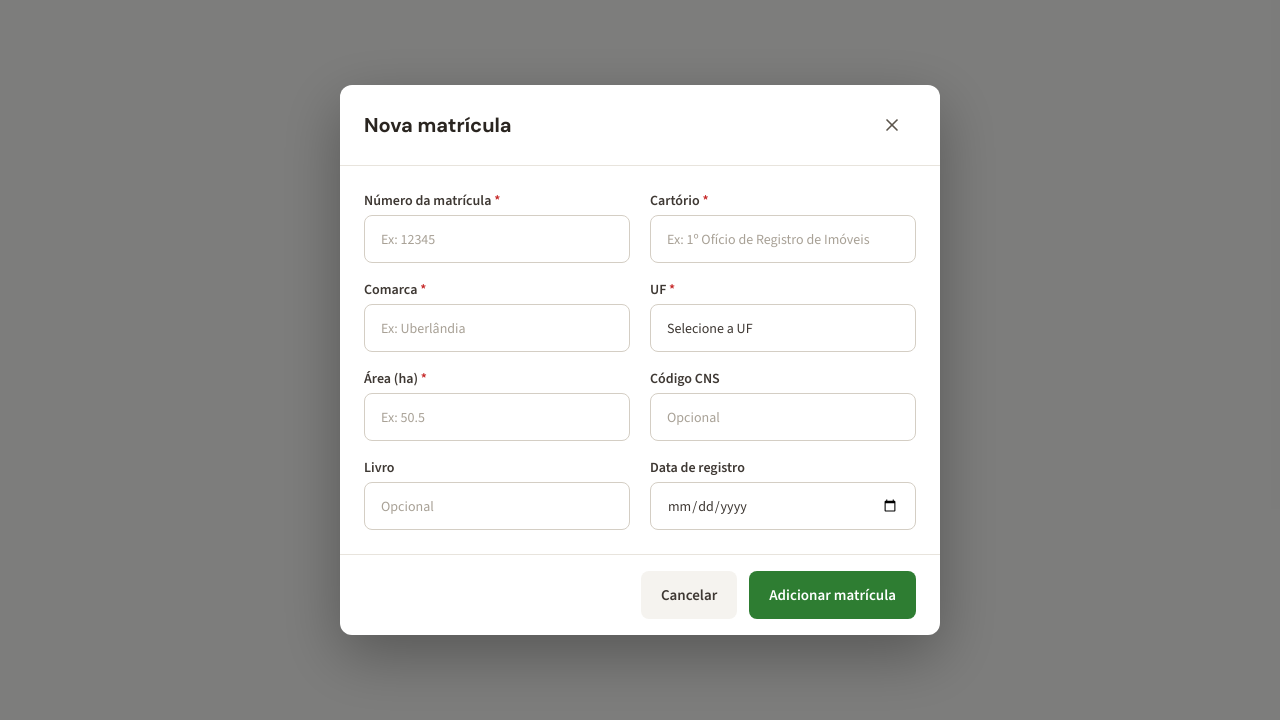
Test: RegistrationFormModal › should show validation error for area <= 0
In the number field labelled "Área (ha) *": (497, 417) 364,393 -> 630,441, type "0"
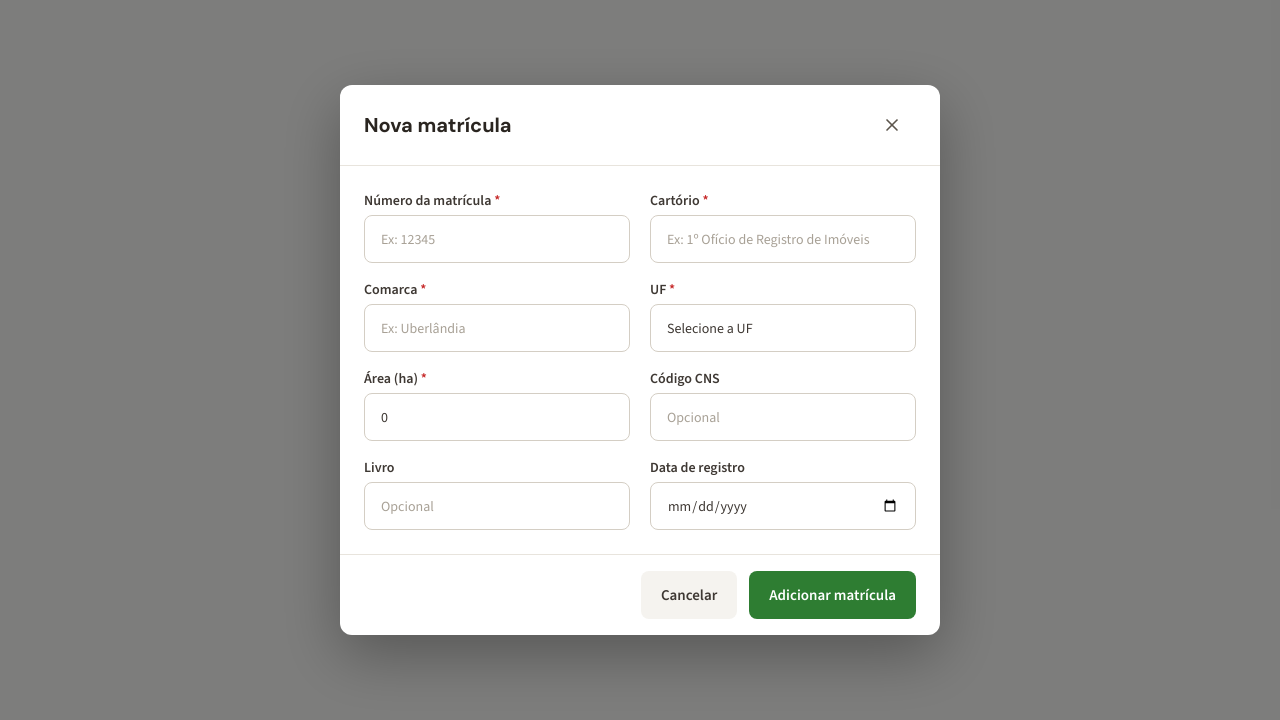
Leave the number field labelled "Área (ha) *", box 364,393 -> 630,441
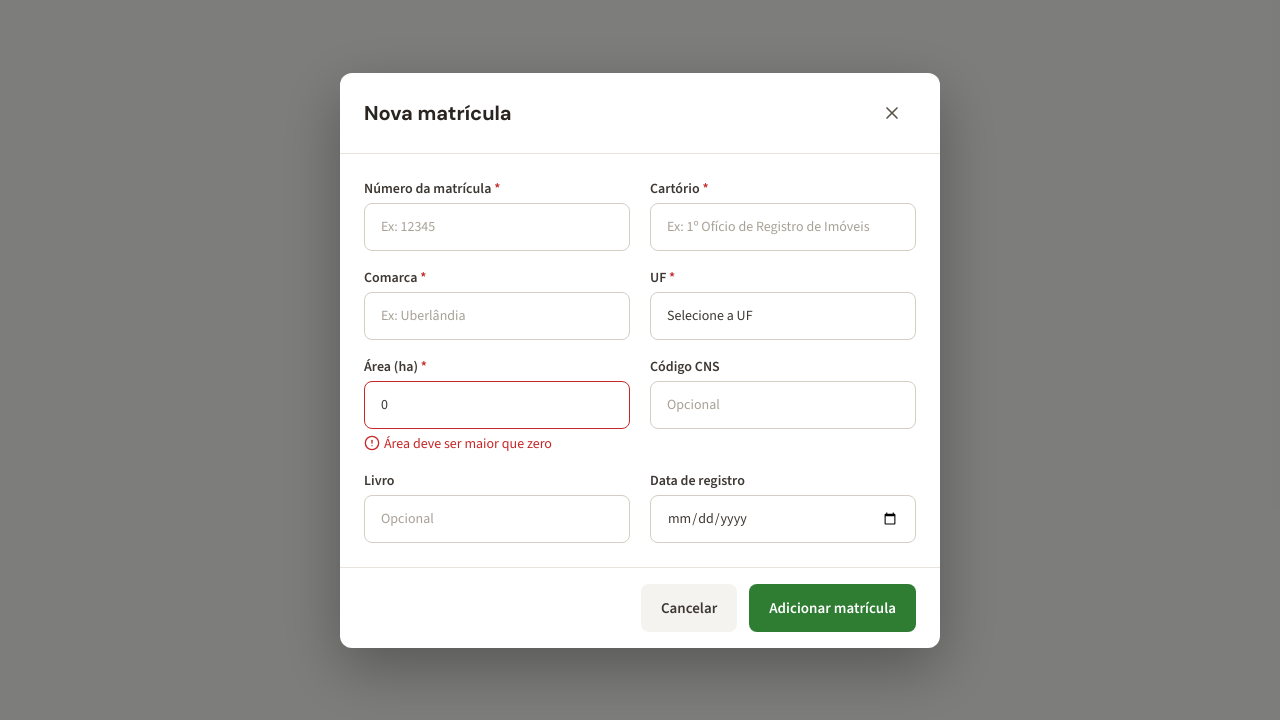
Expected: the text "Área deve ser maior que zero" is shown, 364,434 -> 552,452
